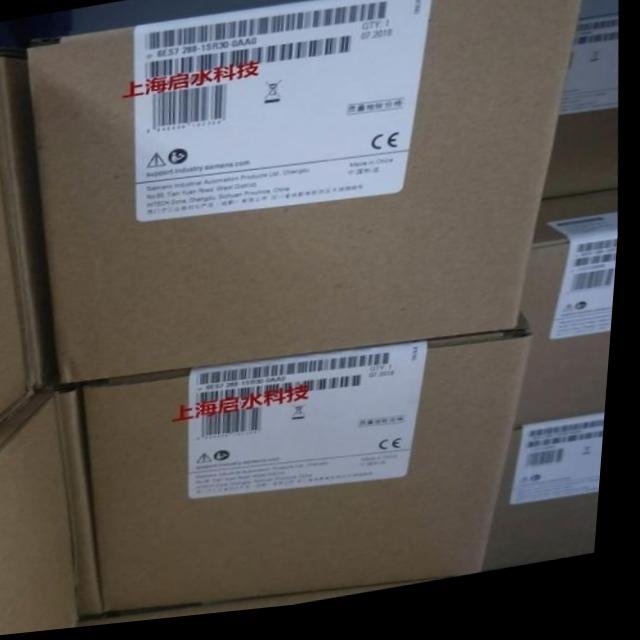box: (30, 0, 581, 386), (89, 338, 540, 614), (0, 387, 96, 637), (520, 204, 620, 441), (0, 56, 52, 428), (490, 429, 612, 582), (547, 27, 620, 212)
